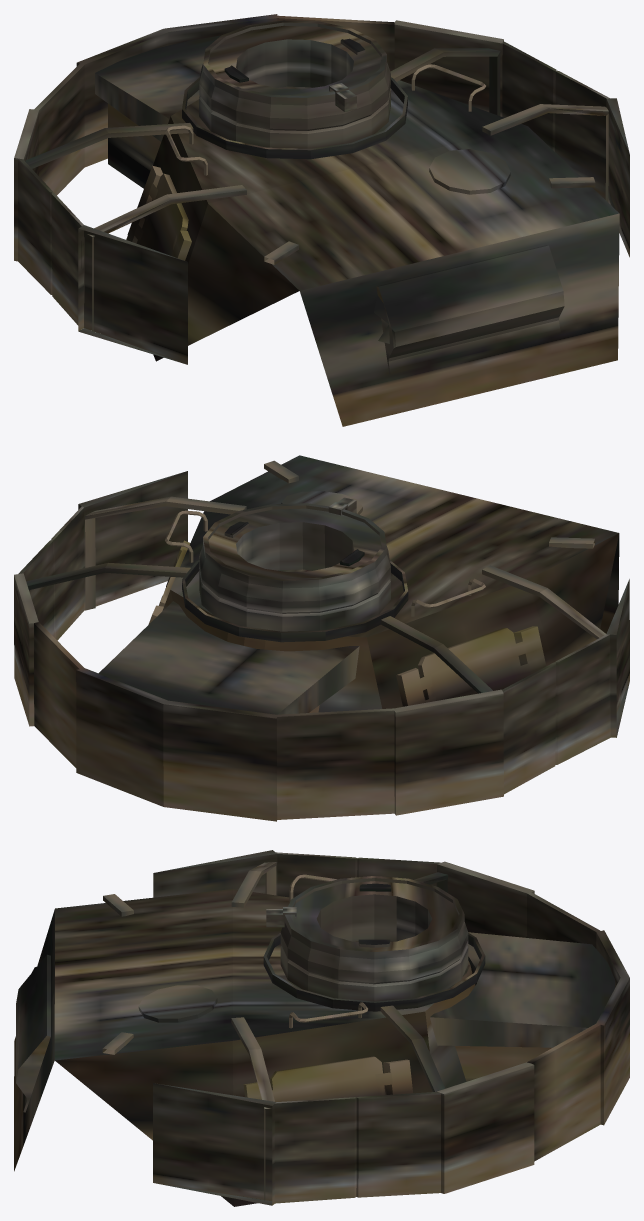
File: pz4_turret_m1.obj
3 views of the same model, one above another, from view 1: azimuth 30°, elevation 25°; view 2: azimuth 150°, elevation 25°; view 3: azimuth 270°, elevation 25° (orthographic). The views are drawn at different scales.
Parts seen in each view (by area): view 1: pz4_turret_m1; view 2: pz4_turret_m1; view 3: pz4_turret_m1.
Part boxes in pixels (x1,y1,x2,y2): pz4_turret_m1: [14, 14, 629, 426]; pz4_turret_m1: [14, 455, 629, 821]; pz4_turret_m1: [14, 850, 629, 1206].
Bounding box in the file's own units: 2.5 × 0.9007 × 2.55.
1 material, 1 textured.
